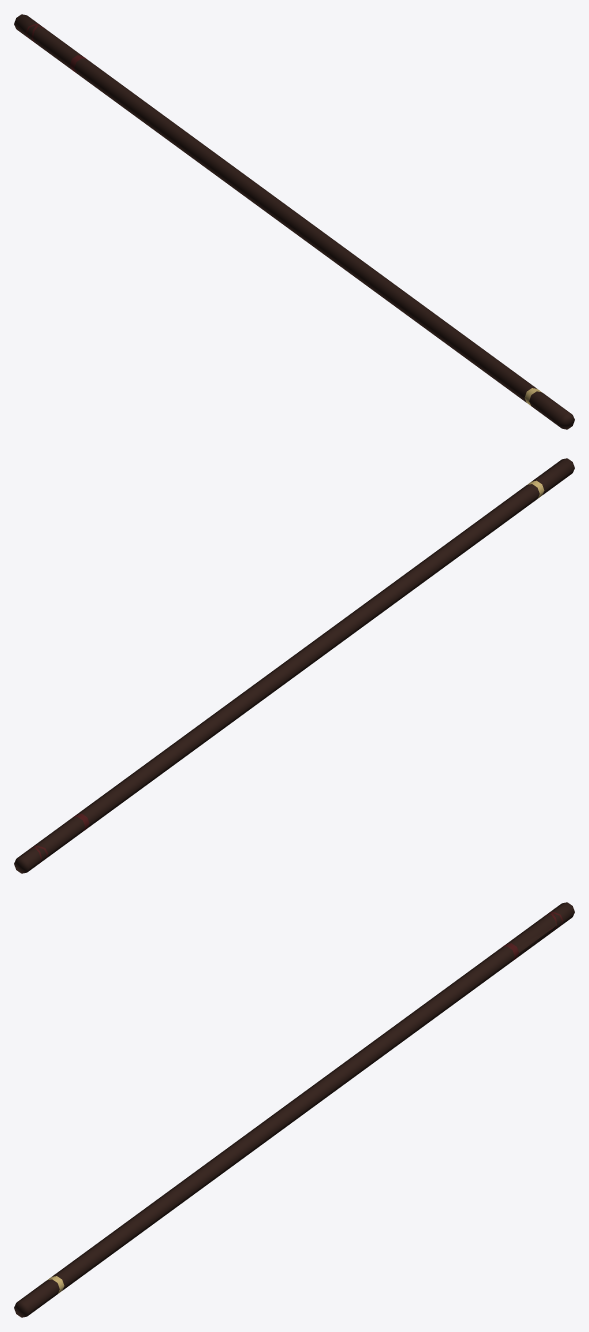
Rendered from W_Right_Gudgel.FBX.
3 views of the same model, one above another, from view 1: azimuth 30°, elevation 25°; view 2: azimuth 150°, elevation 25°; view 3: azimuth 330°, elevation 25° (orthographic).
Visible parts, largest first — view 1: 对象001; view 2: 对象001; view 3: 对象001.
Part boxes in pixels (left/top/right/bottom): 对象001: left=14, top=14, right=574, bottom=429; 对象001: left=14, top=458, right=574, bottom=873; 对象001: left=14, top=902, right=574, bottom=1317.
Bounding box in the file's own units: 0.0333 × 0.0333 × 2.06.
